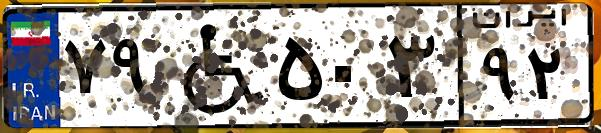0: (330, 28, 385, 110)
2: (525, 38, 570, 115)
3: (385, 28, 445, 110)
5: (270, 28, 330, 110)
7: (57, 26, 110, 100)
9: (475, 38, 525, 113), (110, 28, 158, 98)
ژ (معلولین و جانبازان): (158, 12, 270, 120)
